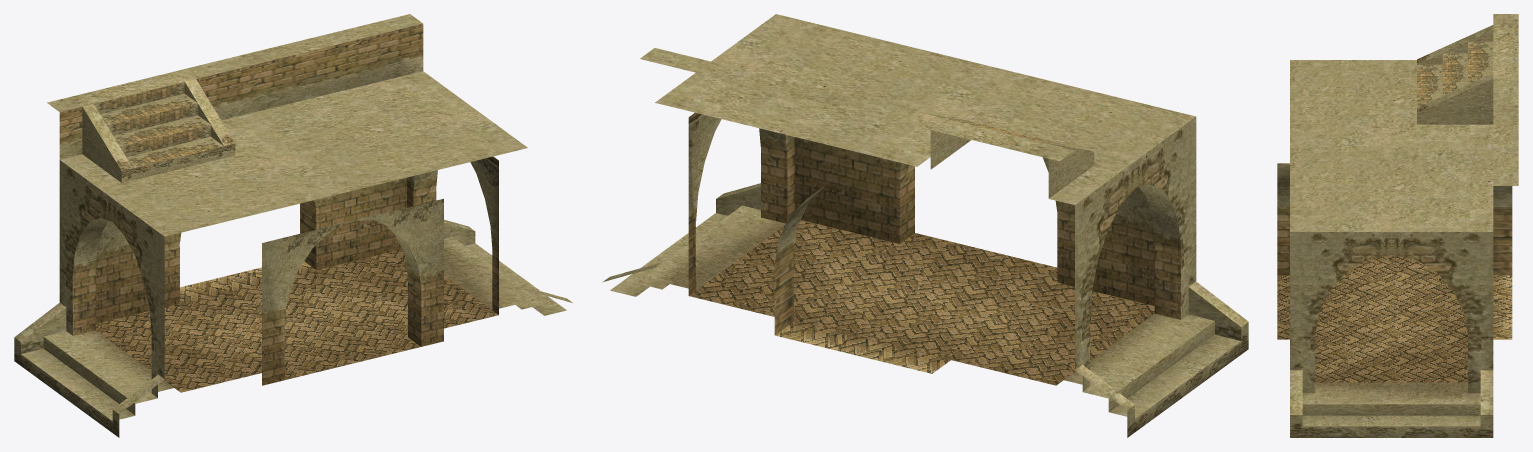
Rendered from M7Z2_StuccoBuildingB.glb.
3 views of the same model, side by side, from view 1: azimuth 30°, elevation 25°; view 2: azimuth 150°, elevation 25°; view 3: azimuth 270°, elevation 25° (orthographic). The views are drawn at different scales.
Parts seen in each view (by area): view 1: M7Z2_STUCCOBUILDINGB; view 2: M7Z2_STUCCOBUILDINGB; view 3: M7Z2_STUCCOBUILDINGB.
Part boxes in pixels (x1,y1,x2,y2): M7Z2_STUCCOBUILDINGB: [14, 14, 572, 437]; M7Z2_STUCCOBUILDINGB: [602, 14, 1248, 437]; M7Z2_STUCCOBUILDINGB: [1277, 14, 1518, 437].
Size of the model in its own units: 10 by 5 by 4.75.
5 materials, 5 textured.
